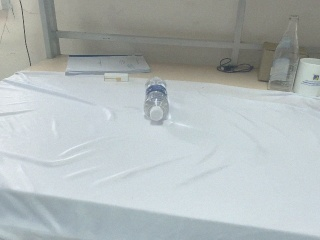bottle: (267, 15, 300, 93), (143, 77, 169, 124)
